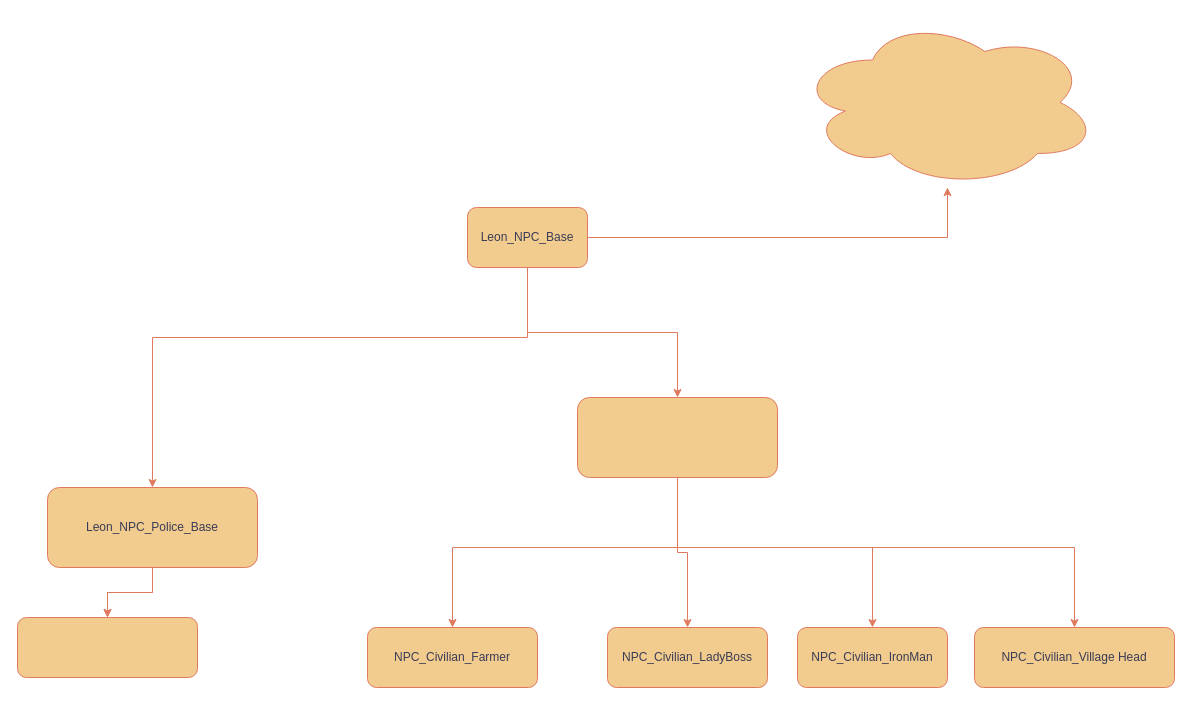
This 1192x705 diagram has some shape labels left out. Each missing label, with the box of its shape:
Leon_NPC_ civilian _Base: (576, 396, 778, 478)
Leon_NPC_Support_Police: (16, 616, 198, 678)
一些通用的行为，比如受击， 吃饭睡觉需求，打招呼等需求，后续再做整合: (796, 16, 1098, 188)
